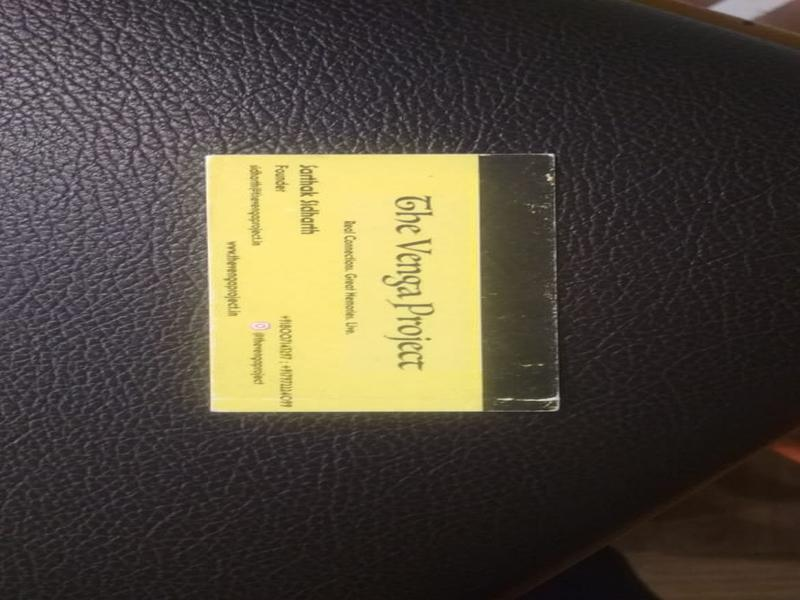card: (208, 151, 559, 413)
